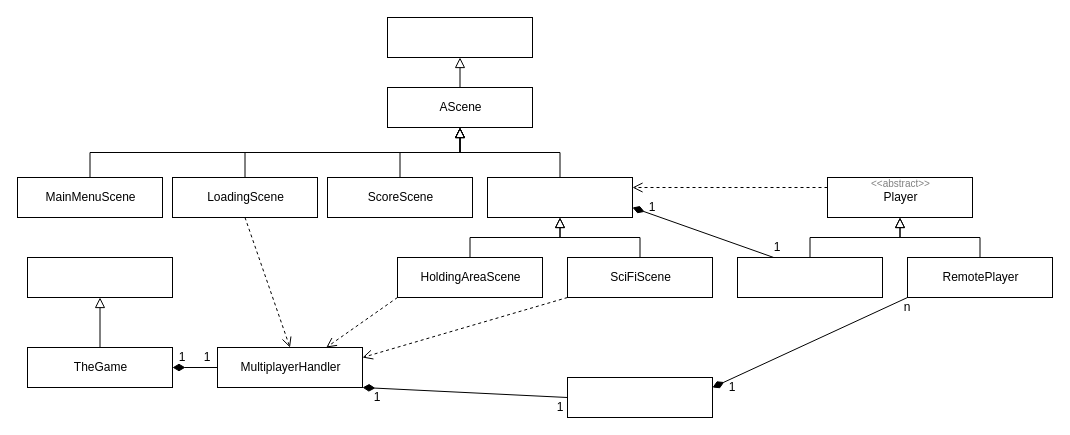
The diagram is 1070 pixels wide and 435 high, and some of its shapes have lost their labels. The shapes that lost their labels are listed below. From the top down, each one's centre as x and y in pixels, then its label:
[459,37]: Phaser.Scene
[559,197]: <<abstract>> GameMap
[99,277]: Phaser.Game
[809,277]: LocalPlayer
[639,397]: RemotePlayerManager
